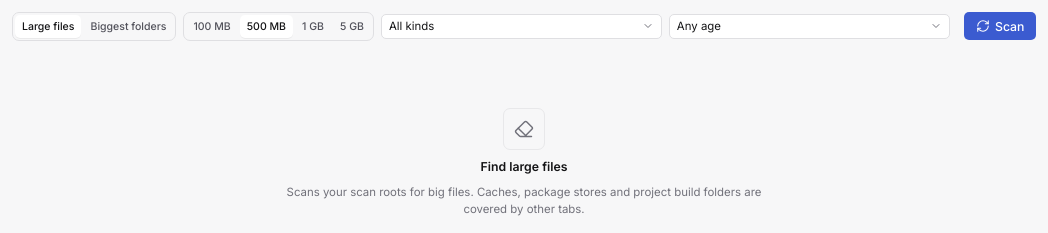
large-files tab history › saves its results once a scan has finished
Click the button "Scan": [1000, 26] box [964,12,1036,40]
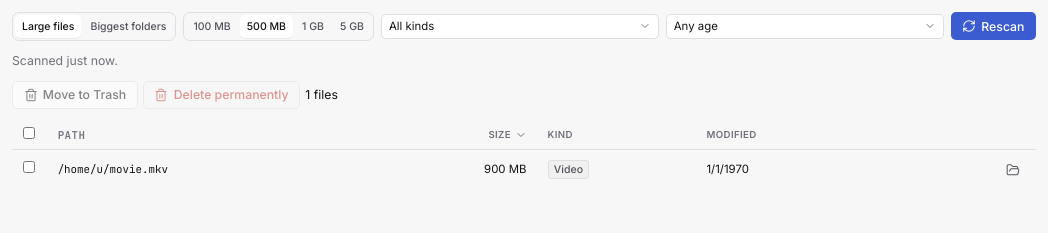
Expected: the text "/home/u/movie.mkv" is shown, [47,150,385,189]
Expected: the text "Scanned just now." is shown, [12,53,118,68]
